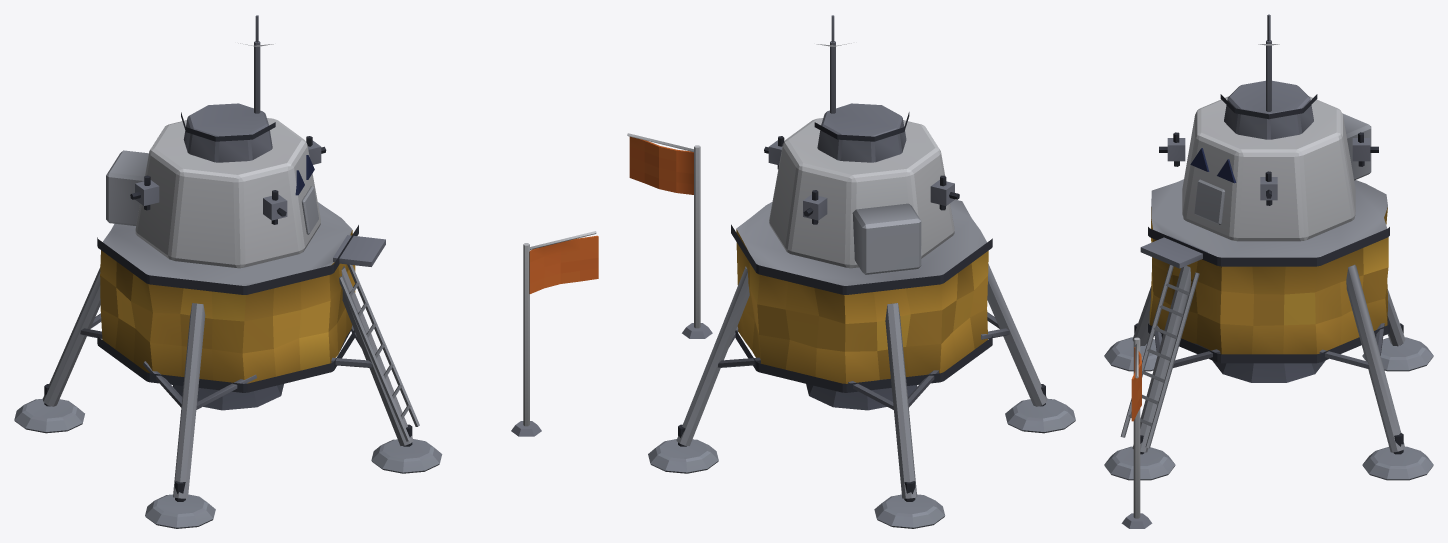
File: lander.glb
The picture shows the model from 3 angles, left to right: view 1: azimuth 30°, elevation 25°; view 2: azimuth 150°, elevation 25°; view 3: azimuth 270°, elevation 25°; orthographic projection.
Parts seen in each view (by area): view 1: lander; view 2: lander; view 3: lander, glow_windows.
Part boxes in pixels (left/top/right/bottom): lander: left=14, top=15, right=598, bottom=528; lander: left=627, top=15, right=1075, bottom=528; lander: left=1104, top=14, right=1433, bottom=528; glow_windows: left=1190, top=148, right=1236, bottom=183.
Size of the model in its own units: 4.6 by 4.12 by 3.
